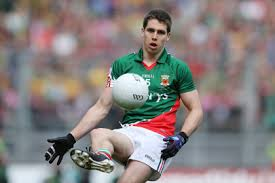ball: (108, 71, 148, 111)
player: (83, 12, 196, 175)
